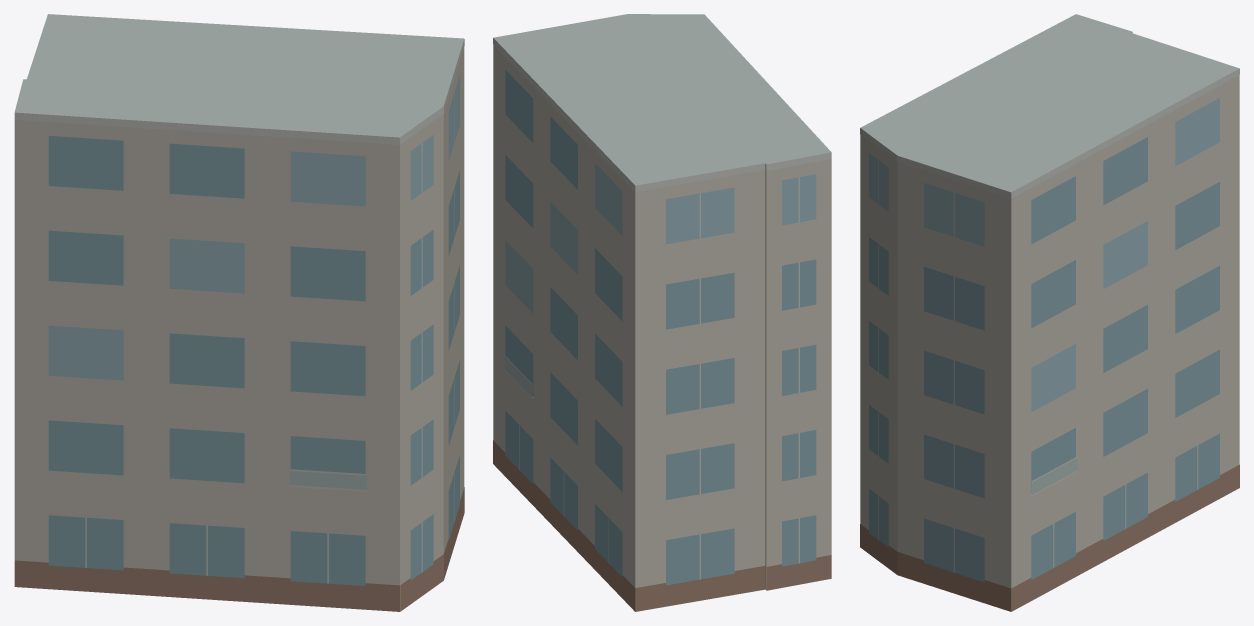
Rendered from survey-upis-32911076.glb.
3 views of the same model, side by side, from view 1: azimuth 30°, elevation 25°; view 2: azimuth 150°, elevation 25°; view 3: azimuth 270°, elevation 25° (orthographic). The views are drawn at different scales.
Parts seen in each view (by area): view 1: survey-upis-32911076.tmp; view 2: survey-upis-32911076.tmp; view 3: survey-upis-32911076.tmp.
Boxes of the visible parts, x1,y1,x2,y2 form: survey-upis-32911076.tmp: (14,14,464,611); survey-upis-32911076.tmp: (493,14,831,611); survey-upis-32911076.tmp: (860,14,1239,611).
Bounding box in the file's own units: 14.55 × 15.95 × 13.09.
